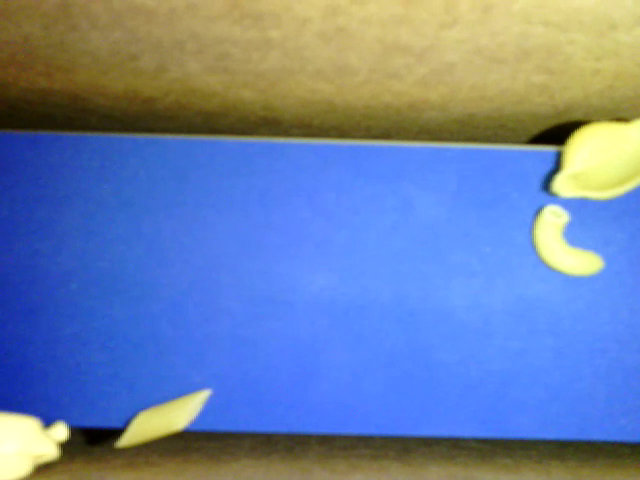elbow: (531, 204, 604, 277)
penne: (113, 388, 212, 447)
shell: (550, 116, 639, 200)
